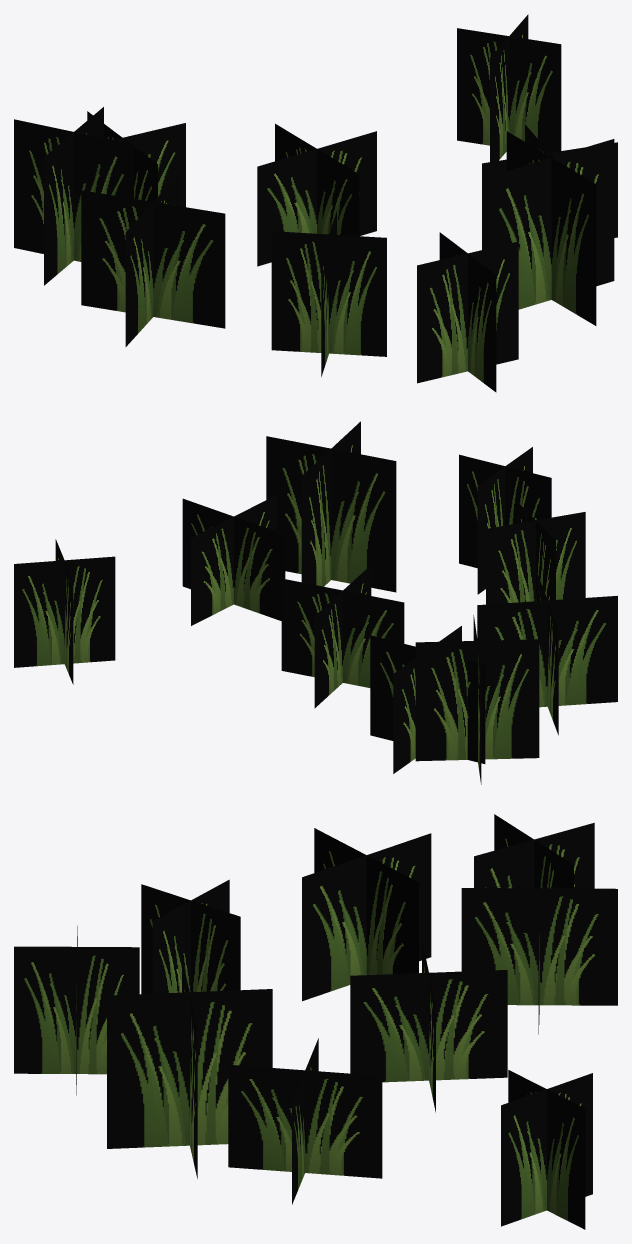
Rendered from Grass_Patch_A.glb.
3 renders of one model, top to bottom at view 1: azimuth 30°, elevation 25°; view 2: azimuth 150°, elevation 25°; view 3: azimuth 270°, elevation 25°, orthographic. The views are drawn at different scales.
Parts seen in each view (by area): view 1: Grass_Patch_A_LOD0.002; view 2: Grass_Patch_A_LOD0.002; view 3: Grass_Patch_A_LOD0.002.
Boxes of the visible parts, box(x1,y1,x2,y2) form: Grass_Patch_A_LOD0.002: box(14, 14, 617, 392); Grass_Patch_A_LOD0.002: box(14, 421, 617, 784); Grass_Patch_A_LOD0.002: box(14, 814, 617, 1229).
Size of what is drawn, in the model's own units: 2.33 by 0.5983 by 2.14.
Materials: 1 (1 with a texture image).
